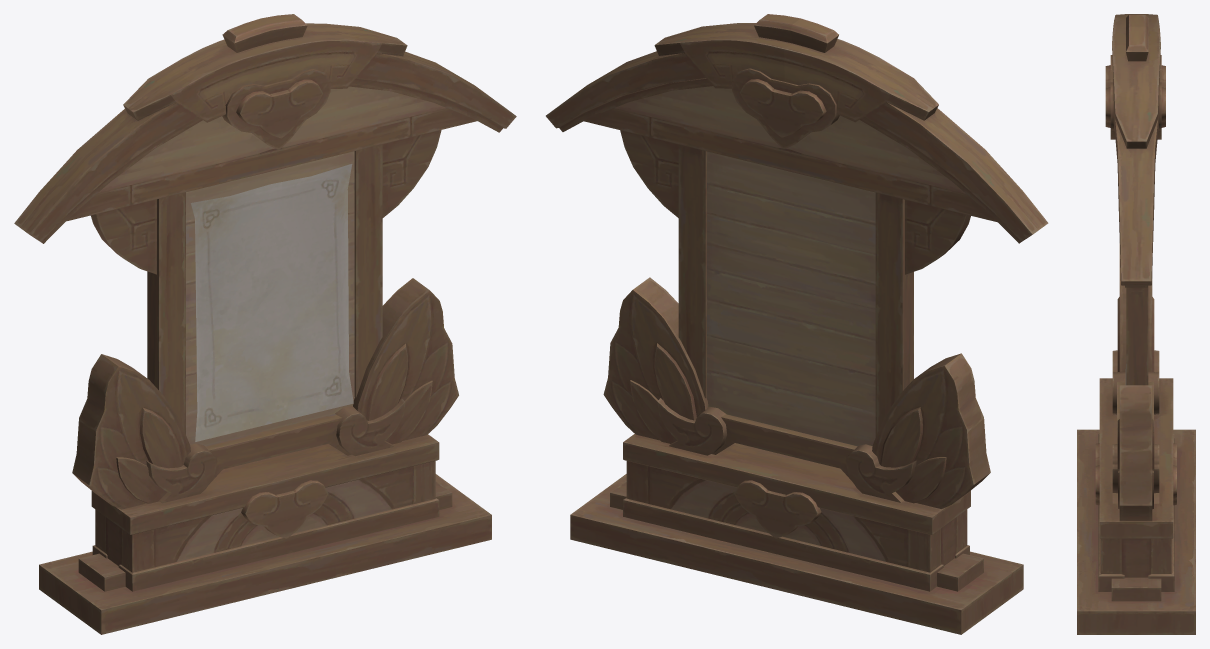
Rendered from Homeworld_Exterior_Common_Prop_Thing_TimerScoring_01_Lod0.fbx.
The picture shows the model from 3 angles, left to right: view 1: azimuth 30°, elevation 25°; view 2: azimuth 150°, elevation 25°; view 3: azimuth 270°, elevation 25°; orthographic projection. The views are drawn at different scales.
Visible parts, largest first — view 1: Homeworld_Exterior_Common_Prop_Thing_TimerScoring_01_Lod0; view 2: Homeworld_Exterior_Common_Prop_Thing_TimerScoring_01_Lod0; view 3: Homeworld_Exterior_Common_Prop_Thing_TimerScoring_01_Lod0.
Boxes of the visible parts, x1=… form: Homeworld_Exterior_Common_Prop_Thing_TimerScoring_01_Lod0: x1=14, y1=14, x2=516, y2=634; Homeworld_Exterior_Common_Prop_Thing_TimerScoring_01_Lod0: x1=546, y1=14, x2=1048, y2=634; Homeworld_Exterior_Common_Prop_Thing_TimerScoring_01_Lod0: x1=1077, y1=14, x2=1195, y2=634.
Size of the model in its own units: 1.76 by 1.87 by 0.3905.
1 material, 1 textured.
